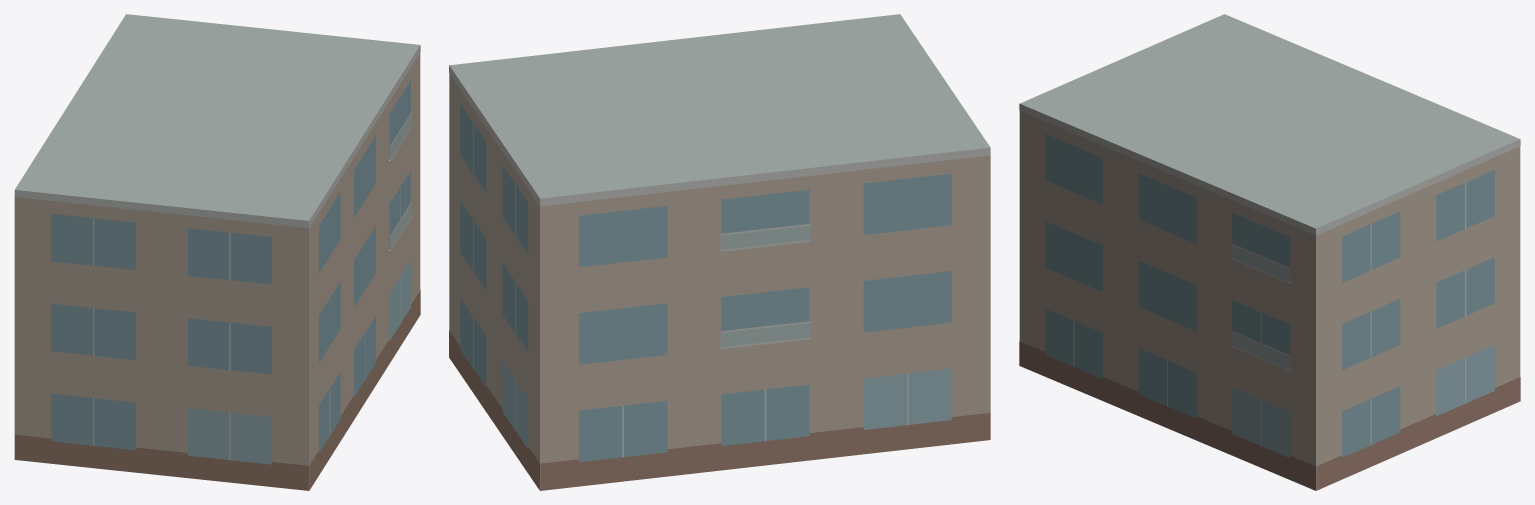
Rendered from survey-upis-32680570.glb.
3 renders of one model, left to right at view 1: azimuth 30°, elevation 25°; view 2: azimuth 150°, elevation 25°; view 3: azimuth 270°, elevation 25°, orthographic. The views are drawn at different scales.
Parts seen in each view (by area): view 1: survey-upis-32680570.tmp; view 2: survey-upis-32680570.tmp; view 3: survey-upis-32680570.tmp.
Boxes of the visible parts, bbox=[...] form: survey-upis-32680570.tmp: bbox=[14, 14, 420, 490]; survey-upis-32680570.tmp: bbox=[449, 14, 990, 490]; survey-upis-32680570.tmp: bbox=[1019, 14, 1520, 490].
Size of the model in its own units: 16.08 by 9.15 by 15.85.
